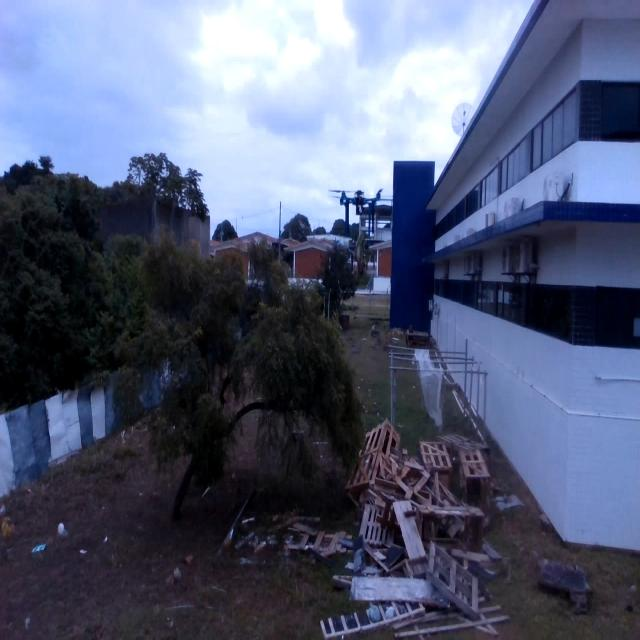-uav-: (330, 177, 388, 244)
